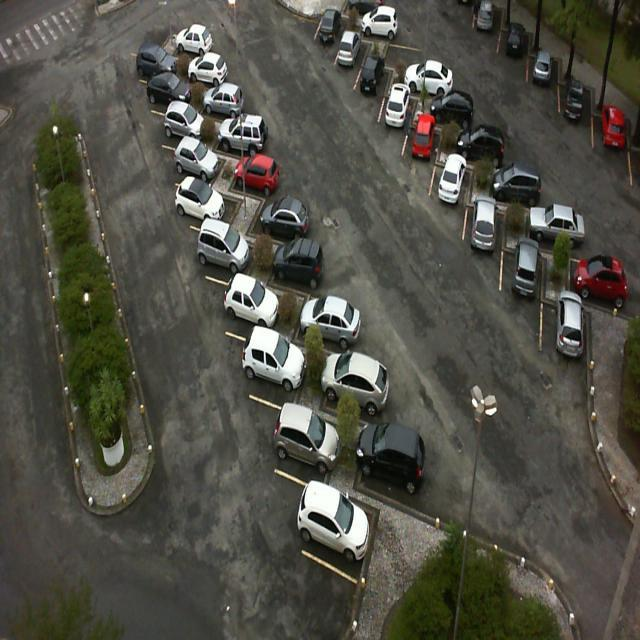space-empty: (389, 38, 428, 74)
space-occupied: (304, 468, 388, 582), (271, 390, 348, 479), (317, 353, 388, 431), (365, 425, 432, 507), (245, 326, 312, 406), (223, 270, 286, 343), (302, 288, 362, 358), (272, 235, 337, 297), (570, 260, 630, 322), (542, 303, 591, 374), (204, 224, 262, 281), (254, 192, 315, 246), (192, 176, 248, 234), (237, 148, 295, 200), (533, 205, 585, 263), (468, 198, 507, 272), (503, 241, 543, 312), (202, 78, 258, 127), (496, 165, 552, 214), (171, 139, 224, 188), (431, 163, 472, 225), (400, 122, 442, 182), (158, 101, 207, 151), (464, 124, 514, 170), (315, 9, 352, 68), (380, 92, 416, 152), (222, 117, 272, 160), (410, 61, 458, 104), (354, 63, 392, 116), (335, 40, 372, 94), (151, 75, 197, 116), (561, 75, 590, 136), (139, 46, 182, 87), (434, 94, 478, 134), (175, 31, 220, 68), (366, 11, 411, 48), (192, 58, 237, 94), (500, 30, 532, 79), (529, 50, 560, 100)
